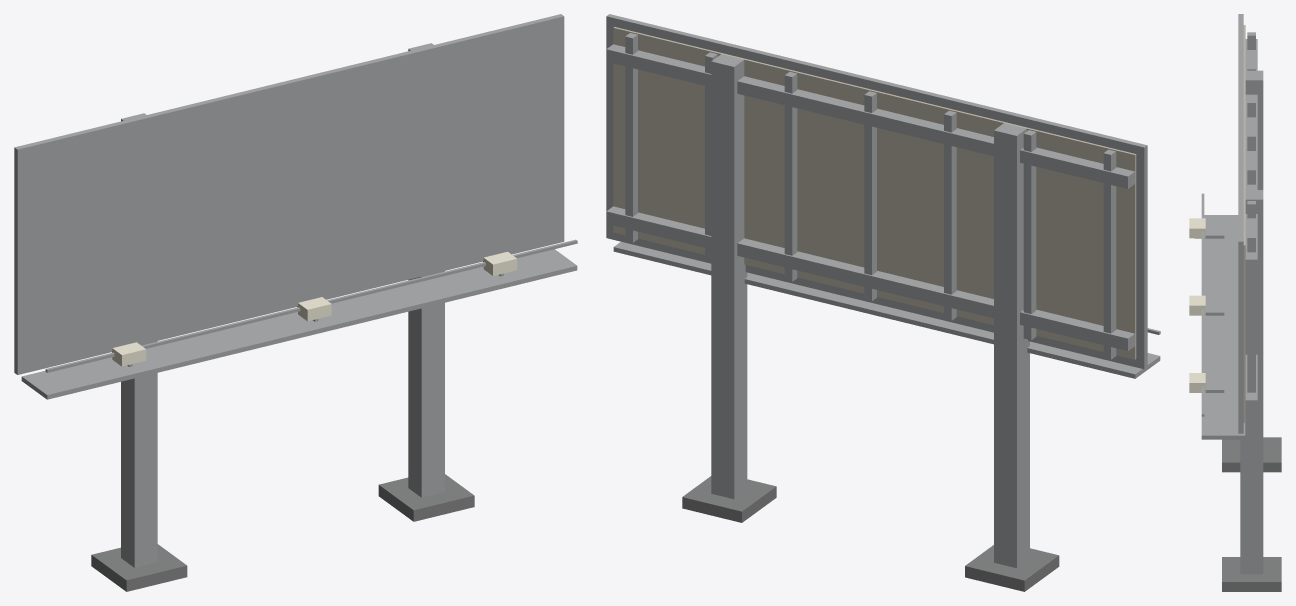
The model's file is city_billboard.fbx.
3 renders of one model, left to right at view 1: azimuth 30°, elevation 25°; view 2: azimuth 150°, elevation 25°; view 3: azimuth 270°, elevation 25°, orthographic. The views are drawn at different scales.
Visible parts, largest first — view 1: galv_1, concrete_1, lamp_1; view 2: galv_1, cream_1, concrete_1; view 3: galv_1, concrete_1, cream_1, lamp_1.
Boxes of the visible parts, left/top/right/bottom form: galv_1: left=14, top=14, right=577, bottom=567; concrete_1: left=91, top=474, right=474, bottom=591; lamp_1: left=112, top=251, right=517, bottom=366; galv_1: left=606, top=14, right=1160, bottom=568; cream_1: left=613, top=27, right=1136, bottom=359; concrete_1: left=682, top=476, right=1059, bottom=591; galv_1: left=1194, top=14, right=1263, bottom=574; concrete_1: left=1222, top=437, right=1281, bottom=591; cream_1: left=1243, top=25, right=1245, bottom=422; lamp_1: left=1189, top=218, right=1205, bottom=392.
Size of the model in its own units: 0.99 by 0.795 by 0.17.
